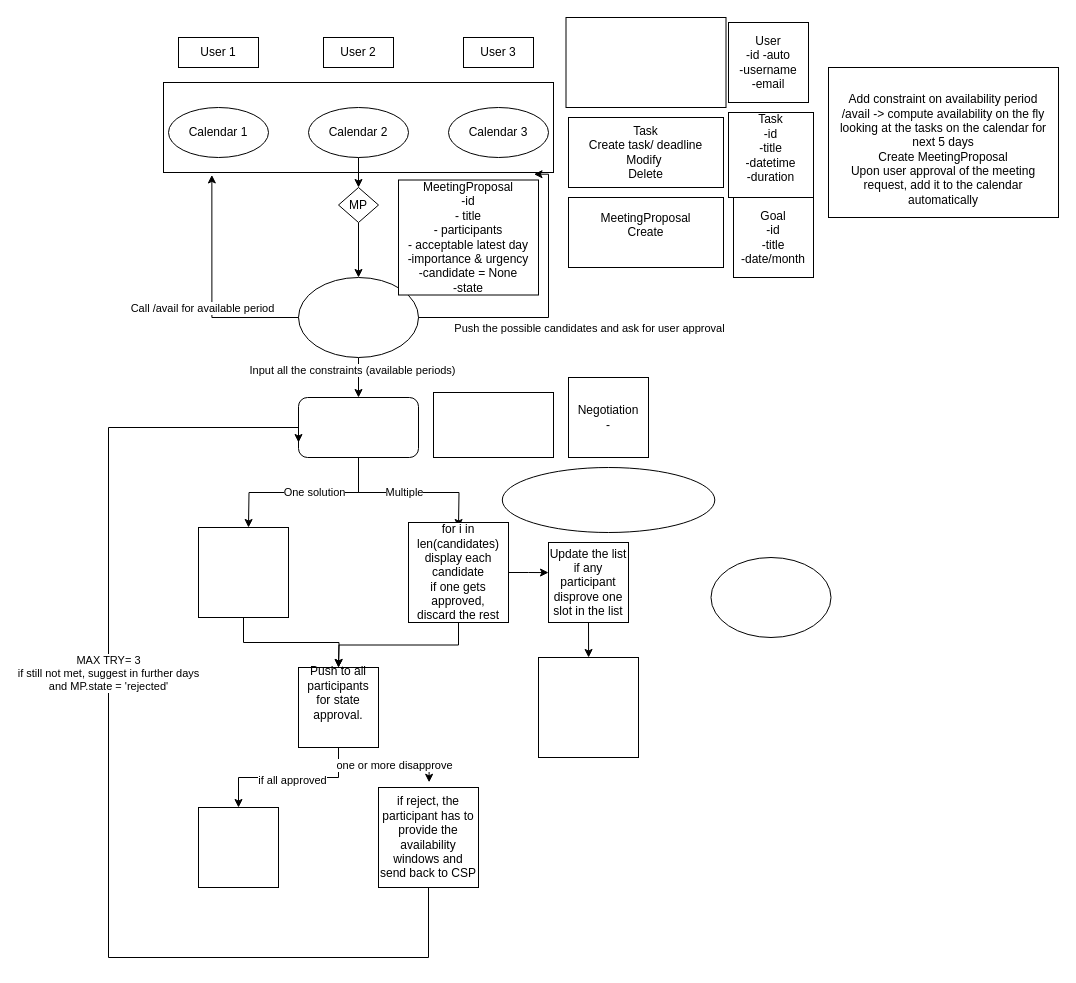
Image size: 1076x983. Some labels were removed from this diagram. Here are the shapes that lost their labels. From the top down, the centre of each, then its label:
At point (645, 62): "User User login/ register/ add participants by username".
At point (358, 317): "Central server".
At point (358, 427): "Scheduling engine CSP".
At point (493, 425): "Compute the possible time slots/ list of time slots".
At point (608, 499): "optimize the list through more soft constraints, until only one optimal solution".
At point (243, 572): "Candidate -datetime -state: pending".
At point (770, 597): "While MP.state == 'pending'".
At point (588, 707): "Remain only one optimal candidate -based on majority vote and optimal votes".
At point (238, 847): "add the event to all participants' calendar.".
